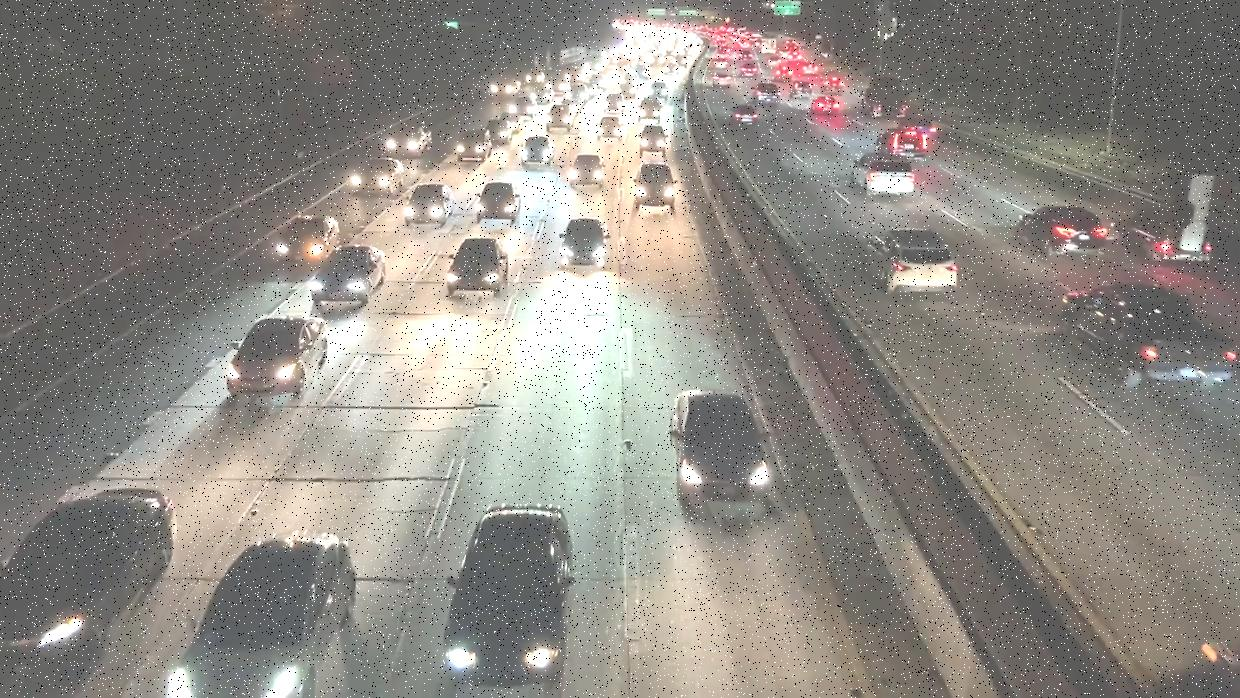car: (153, 532, 377, 698), (0, 468, 181, 672), (431, 494, 587, 692), (1055, 274, 1240, 406), (669, 376, 783, 508), (225, 316, 315, 398), (306, 243, 387, 312), (874, 233, 963, 293), (1016, 208, 1109, 257), (555, 212, 610, 279), (273, 216, 343, 266), (445, 238, 505, 292), (346, 155, 417, 200), (405, 183, 458, 230), (858, 156, 914, 196), (633, 162, 680, 207), (454, 129, 504, 169), (476, 182, 523, 222), (569, 153, 612, 192), (880, 127, 929, 157), (387, 125, 442, 151), (636, 123, 674, 156), (521, 136, 556, 169), (750, 78, 784, 107), (635, 96, 665, 120), (595, 115, 627, 137), (601, 89, 624, 118), (809, 95, 842, 115), (709, 70, 738, 91), (731, 105, 757, 128)
